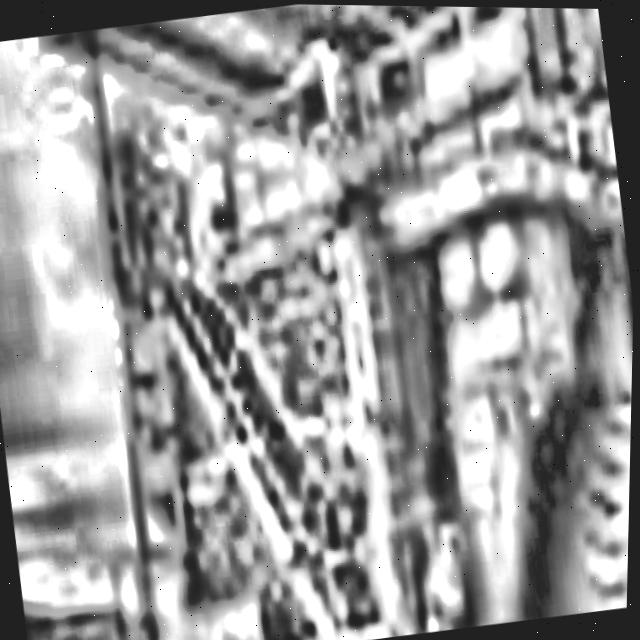dump_truck: (22, 0, 640, 640)
